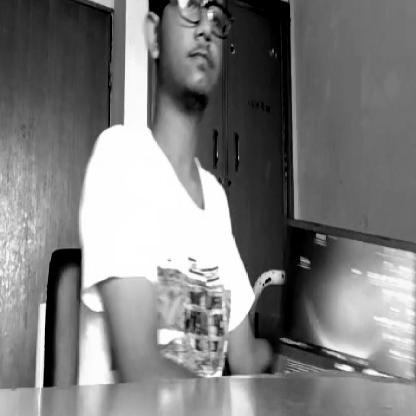Normal: (144, 0, 238, 92)
